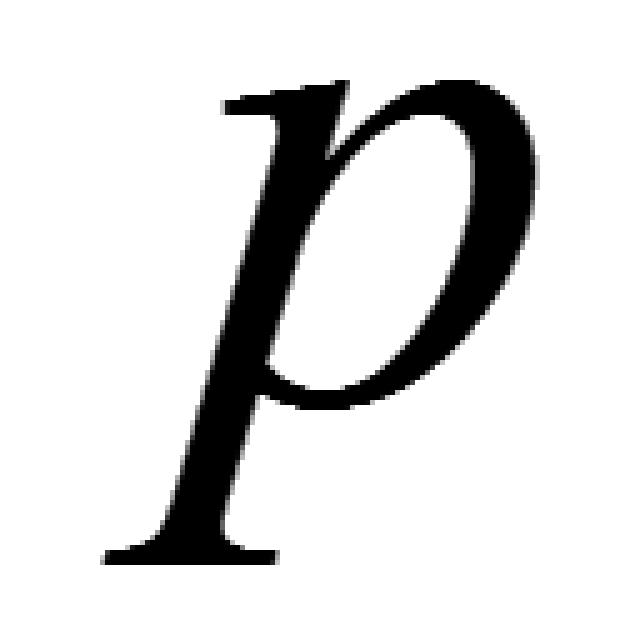P: (105, 80, 535, 570)
